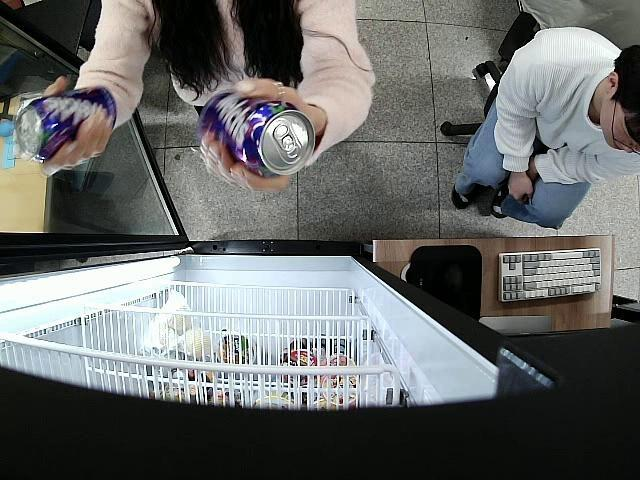14_welchsGrape: (198, 88, 316, 182), (16, 86, 115, 162)
